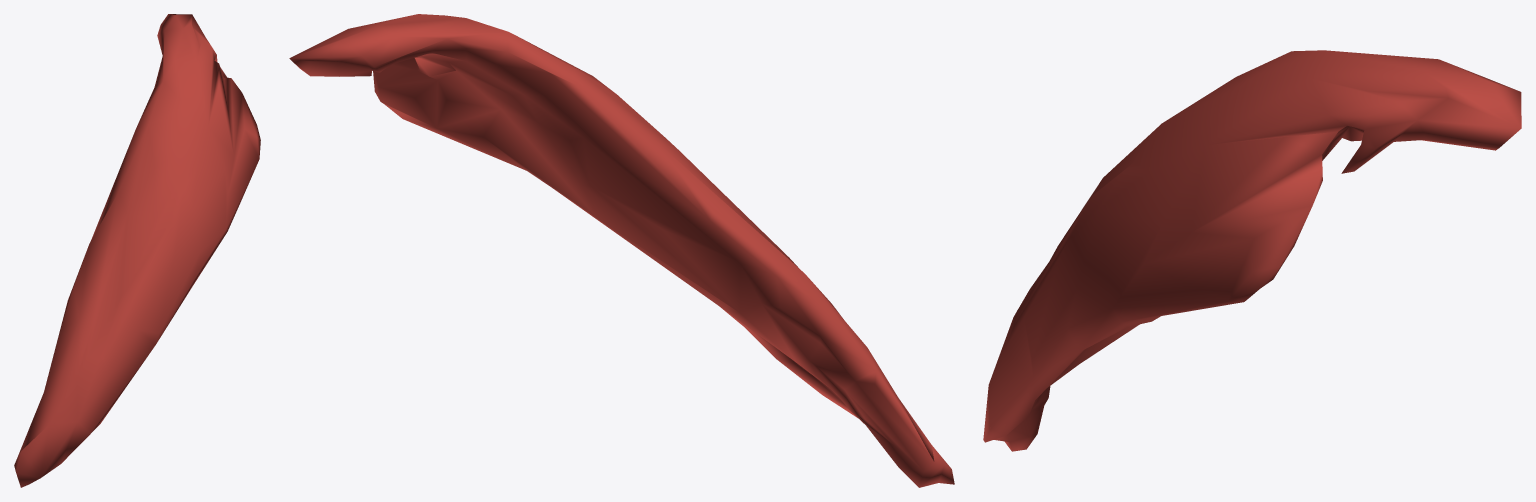
File: musculos-abductor-pollicis-brevis-r.glb
3 views of the same model, side by side, from view 1: azimuth 30°, elevation 25°; view 2: azimuth 150°, elevation 25°; view 3: azimuth 270°, elevation 25° (orthographic). The views are drawn at different scales.
Parts seen in each view (by area): view 1: Abductor pollicis brevis.r; view 2: Abductor pollicis brevis.r; view 3: Abductor pollicis brevis.r.
Boxes of the visible parts, bbox=[...] form: Abductor pollicis brevis.r: bbox=[14, 14, 260, 487]; Abductor pollicis brevis.r: bbox=[289, 14, 954, 487]; Abductor pollicis brevis.r: bbox=[983, 50, 1521, 451].
Size of the model in its own units: 0.0407 by 0.0395 by 0.0306.
